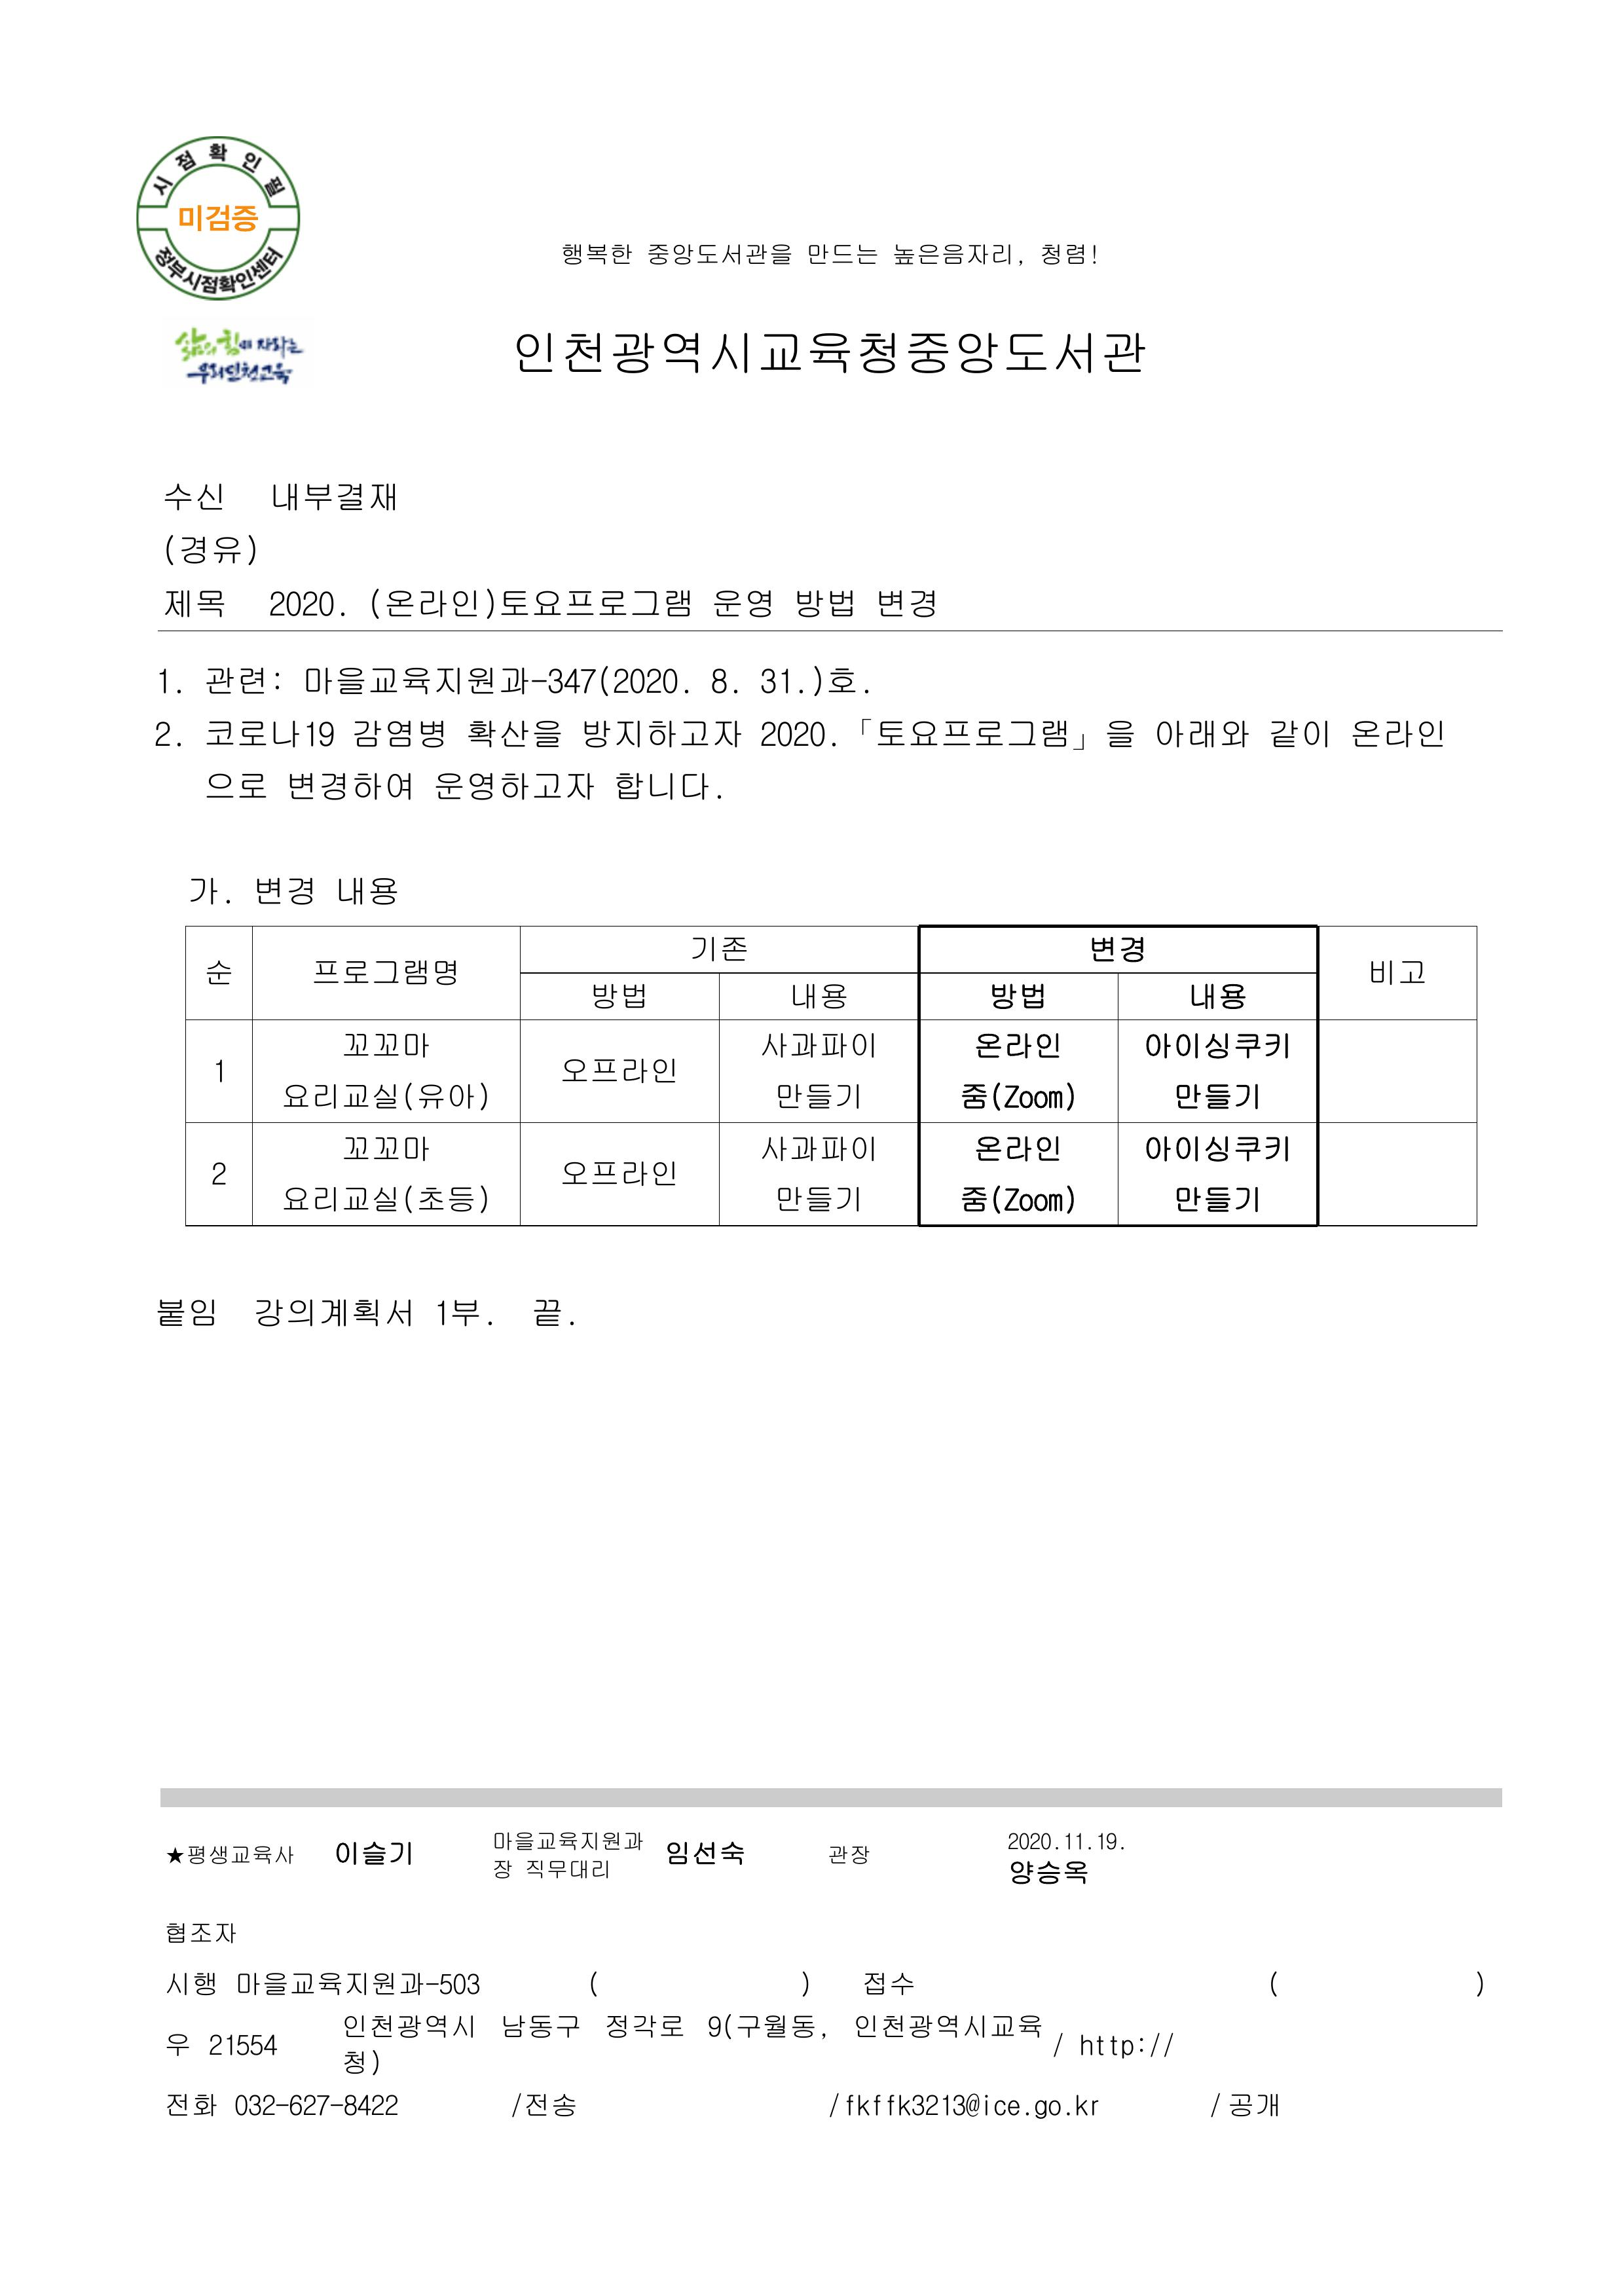t: (513, 326, 1147, 380), (301, 663, 692, 699), (365, 584, 692, 623), (232, 1965, 484, 2000), (871, 717, 1090, 753), (283, 1179, 491, 1215), (849, 2008, 1043, 2044), (280, 1079, 491, 1111), (577, 713, 742, 753), (251, 1294, 416, 1330), (434, 767, 595, 803), (1140, 1129, 1291, 1165), (312, 953, 459, 989), (268, 477, 397, 516), (1140, 1029, 1291, 1061), (204, 713, 337, 749), (287, 767, 416, 803), (703, 2008, 824, 2044), (341, 2011, 477, 2044), (642, 240, 792, 268), (491, 1829, 645, 1857), (756, 1129, 878, 1165), (175, 329, 304, 362), (882, 2090, 1022, 2119), (462, 713, 563, 753), (760, 1029, 878, 1061), (559, 1054, 678, 1086), (756, 663, 864, 699), (957, 1079, 1075, 1111), (563, 1158, 678, 1190), (613, 767, 717, 803), (161, 530, 258, 566), (351, 717, 448, 753), (1348, 717, 1445, 753), (893, 244, 1025, 268), (774, 1079, 864, 1115), (774, 1179, 864, 1215), (972, 1129, 1061, 1165), (341, 1029, 434, 1061), (175, 200, 258, 236), (498, 2008, 581, 2044), (600, 2010, 684, 2045), (972, 1029, 1061, 1061), (1006, 1858, 1090, 1892), (1172, 1079, 1262, 1111), (1172, 1183, 1262, 1215), (986, 1183, 1075, 1215), (204, 663, 283, 699), (168, 1843, 276, 1868), (265, 584, 341, 620), (186, 362, 294, 387), (341, 1133, 434, 1162), (333, 1836, 416, 1868), (663, 1836, 746, 1868), (251, 871, 315, 911), (1266, 717, 1334, 753), (803, 236, 878, 268), (756, 717, 832, 749), (161, 584, 226, 620), (710, 584, 774, 620), (792, 584, 857, 620), (154, 1294, 219, 1330), (523, 1857, 613, 1882), (1151, 717, 1219, 749), (875, 584, 936, 620), (559, 240, 635, 268), (204, 2029, 280, 2058), (986, 979, 1047, 1014), (1187, 979, 1247, 1014), (204, 771, 268, 803), (333, 875, 397, 907), (785, 979, 849, 1011), (506, 2090, 577, 2119), (164, 480, 226, 513), (430, 1294, 487, 1330), (688, 932, 749, 964), (1086, 932, 1147, 964), (1079, 2033, 1147, 2062), (588, 979, 649, 1011), (1226, 2090, 1283, 2123), (164, 1922, 240, 1947), (341, 2090, 401, 2119), (164, 1968, 219, 2000), (229, 2090, 280, 2119), (164, 2094, 222, 2119), (186, 875, 229, 907), (1370, 961, 1424, 986), (839, 2090, 885, 2119), (530, 1294, 566, 1330), (864, 1972, 914, 1997), (1040, 244, 1086, 268), (287, 2094, 333, 2119), (706, 663, 742, 695), (1007, 1832, 1058, 1854), (1033, 2097, 1075, 2123), (1104, 717, 1133, 753), (1219, 717, 1251, 749), (957, 1183, 989, 1215), (344, 2051, 383, 2076), (828, 1846, 871, 1868), (1147, 2033, 1176, 2058), (1094, 1832, 1122, 1854), (1072, 2097, 1101, 2119), (1061, 1832, 1090, 1854), (491, 1861, 516, 1882), (157, 720, 175, 749), (212, 1162, 229, 1190), (157, 670, 175, 695), (276, 1846, 297, 1864)
